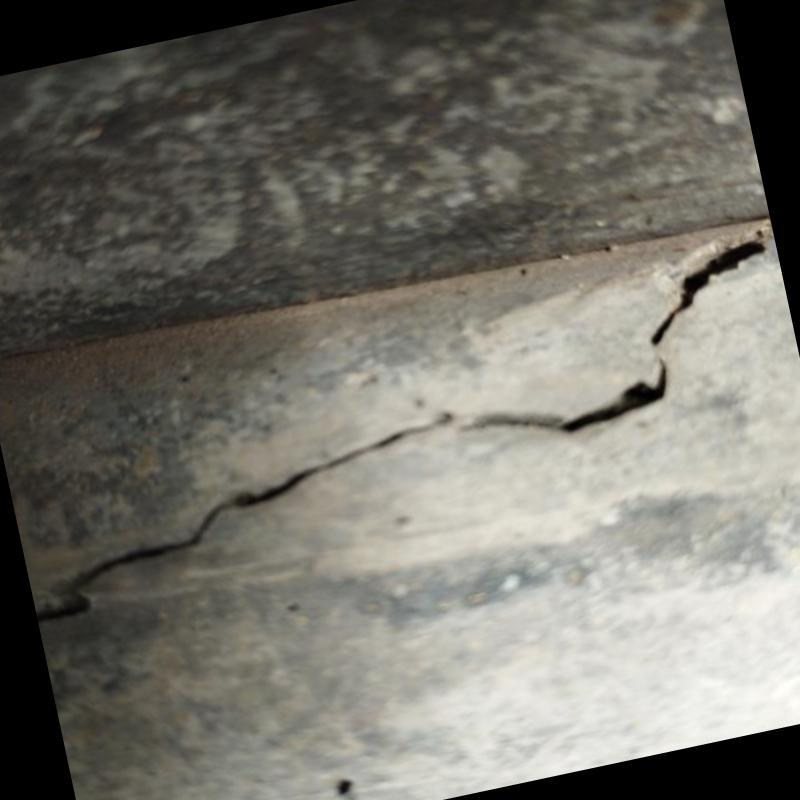crack: (36, 232, 770, 623)
